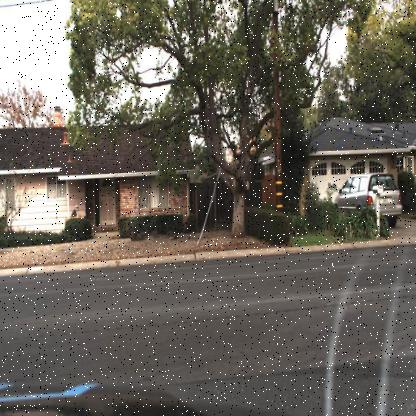car: (331, 173, 403, 227)
